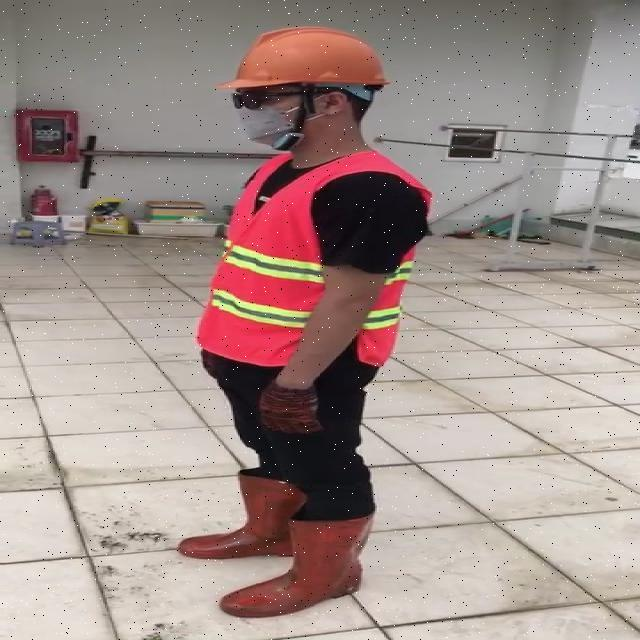Hard_hat: (211, 24, 396, 109)
Vest: (205, 152, 335, 375)
